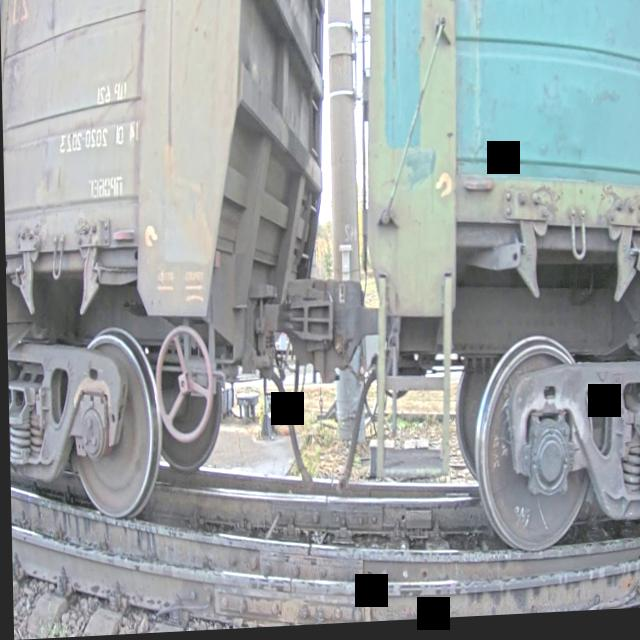gondola: (0, 0, 350, 540), (346, 0, 640, 584)
